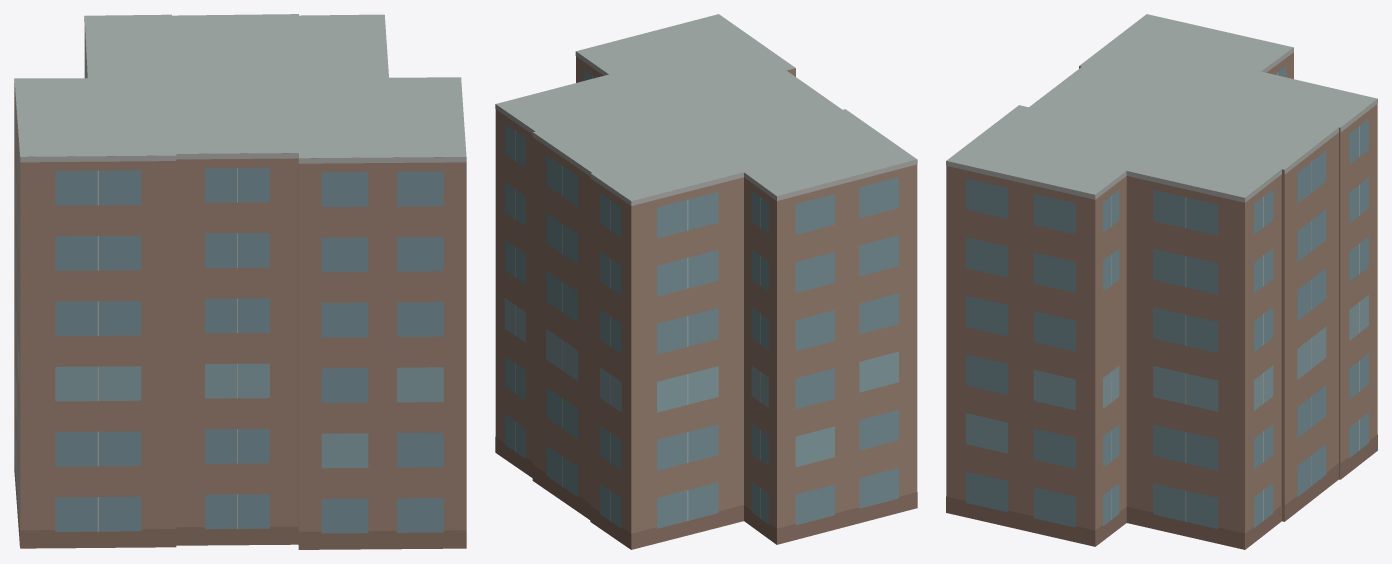
The model's file is survey-upis-32657328.glb.
3 views of the same model, side by side, from view 1: azimuth 30°, elevation 25°; view 2: azimuth 150°, elevation 25°; view 3: azimuth 270°, elevation 25° (orthographic). The views are drawn at different scales.
Visible parts, largest first — view 1: survey-upis-32657328.tmp; view 2: survey-upis-32657328.tmp; view 3: survey-upis-32657328.tmp.
Part boxes in pixels (bbox=[...]): survey-upis-32657328.tmp: bbox=[14, 14, 466, 549]; survey-upis-32657328.tmp: bbox=[495, 14, 917, 549]; survey-upis-32657328.tmp: bbox=[946, 14, 1377, 549].
Bounding box in the file's own units: 19.62 × 17.5 × 19.46.
